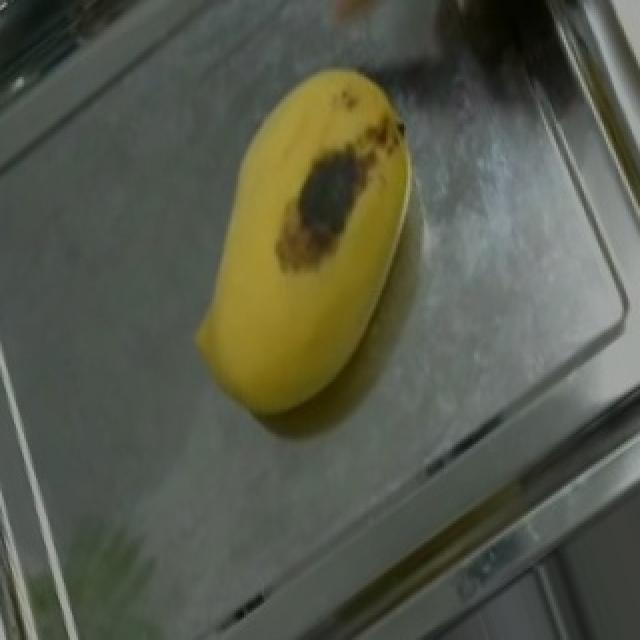fruit: (142, 102, 464, 466)
